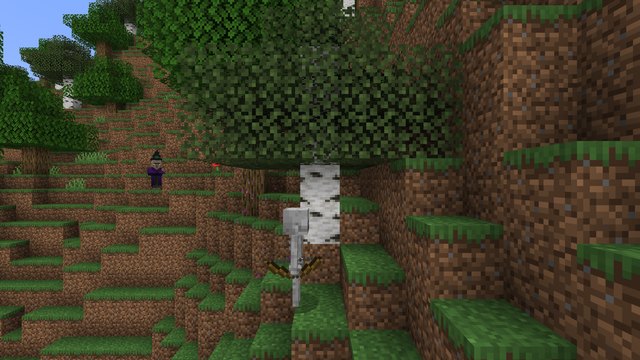sorcieres: (148, 158, 161, 188)
squelettes: (280, 207, 310, 308)
